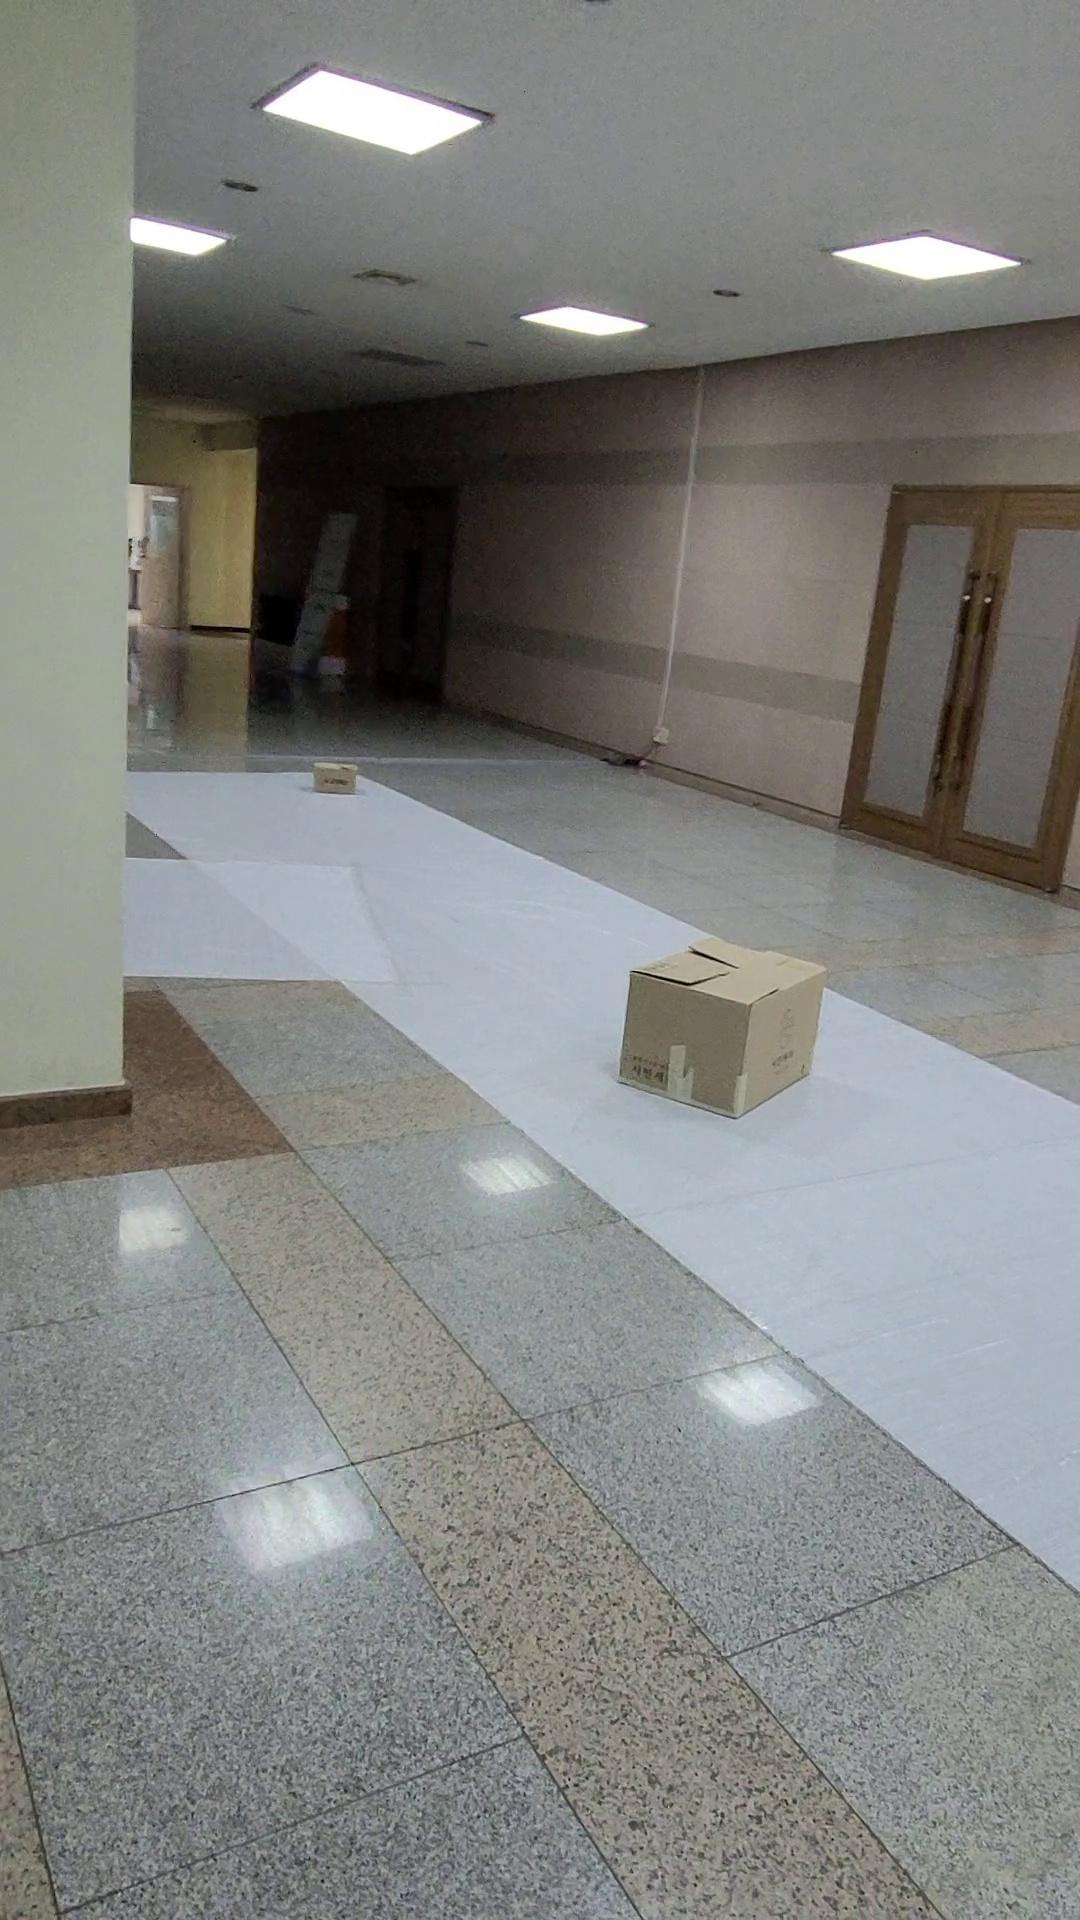Box: (608, 923, 849, 1133), (286, 715, 380, 810)
